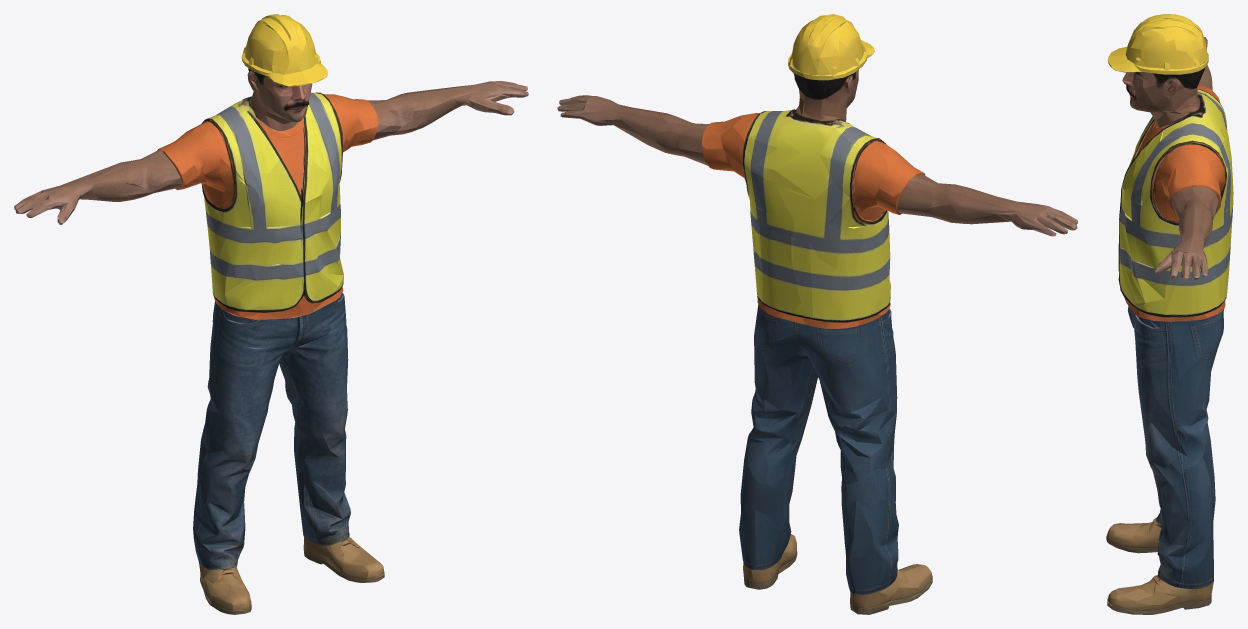
File: image3d.glb
3 views of the same model, side by side, from view 1: azimuth 30°, elevation 25°; view 2: azimuth 150°, elevation 25°; view 3: azimuth 270°, elevation 25° (orthographic).
Size of the model in its own units: 1.81 by 1.9 by 0.3907.
1 material, 1 textured.
